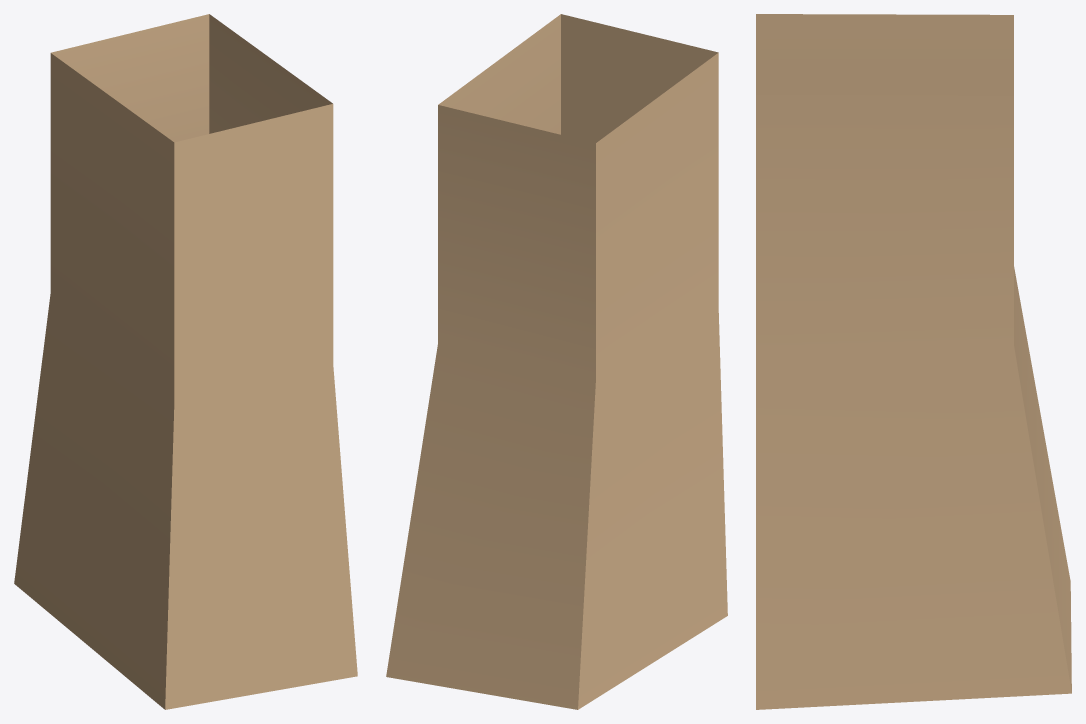
Rendered from AI_FX_LightRay_07.fbx.
3 views of the same model, side by side, from view 1: azimuth 30°, elevation 25°; view 2: azimuth 150°, elevation 25°; view 3: azimuth 270°, elevation 25° (orthographic). The views are drawn at different scales.
Parts seen in each view (by area): view 1: AI_FX_LightRay_07; view 2: AI_FX_LightRay_07; view 3: AI_FX_LightRay_07.
Boxes of the visible parts, box(x1,y1,x2,y2) form: AI_FX_LightRay_07: box(14, 14, 357, 709); AI_FX_LightRay_07: box(386, 14, 727, 709); AI_FX_LightRay_07: box(756, 14, 1071, 709).
Size of the model in its own units: 2.17 by 6.23 by 2.96.
